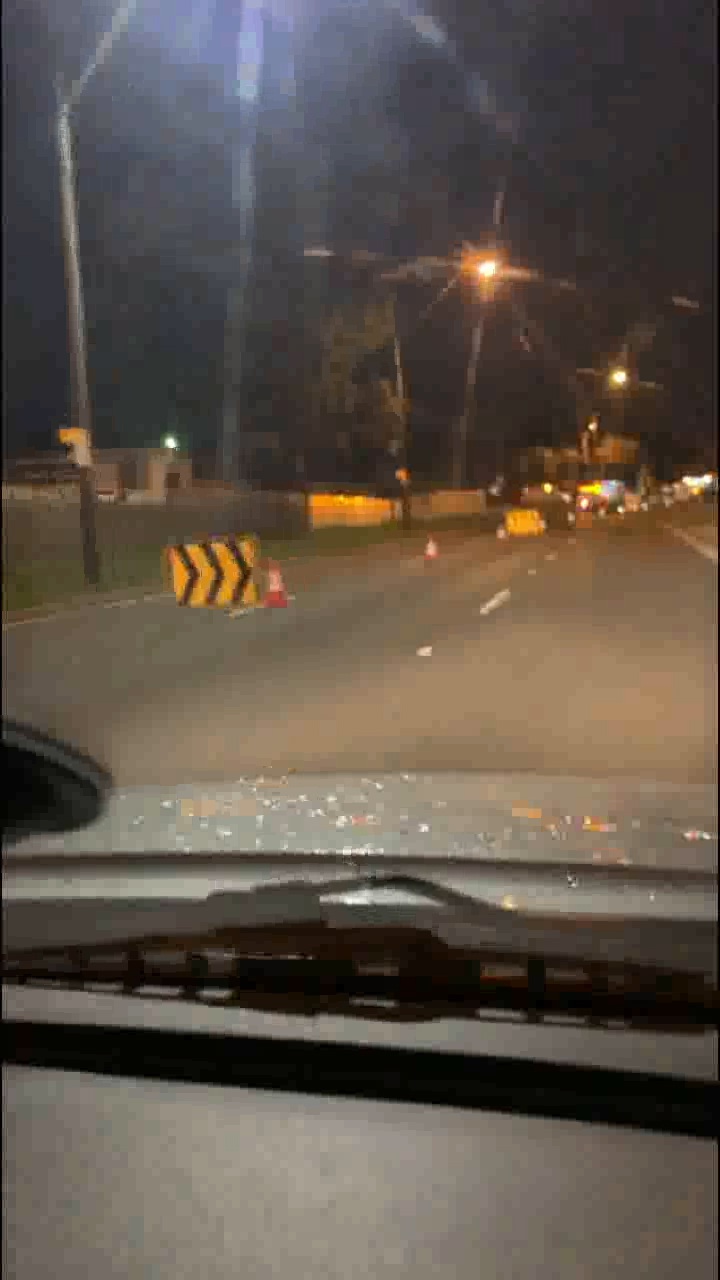road cone: (420, 529, 437, 555)
road works sign board: (170, 542, 283, 609), (504, 511, 547, 540)
